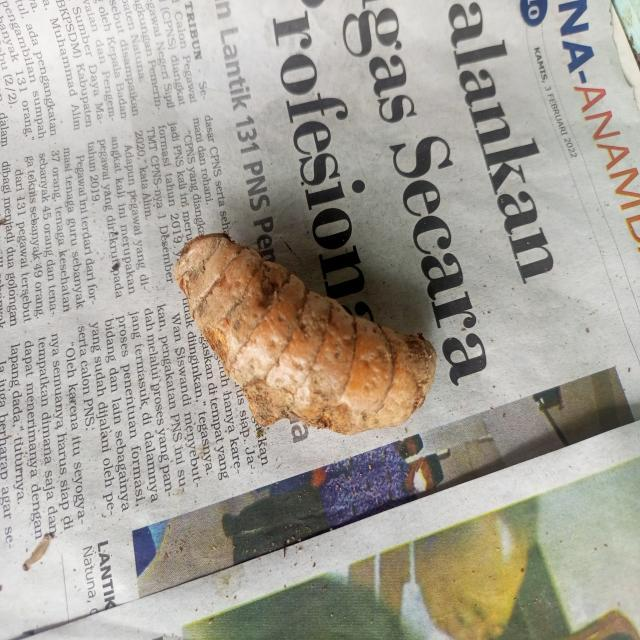ginger: (183, 231, 434, 432)
